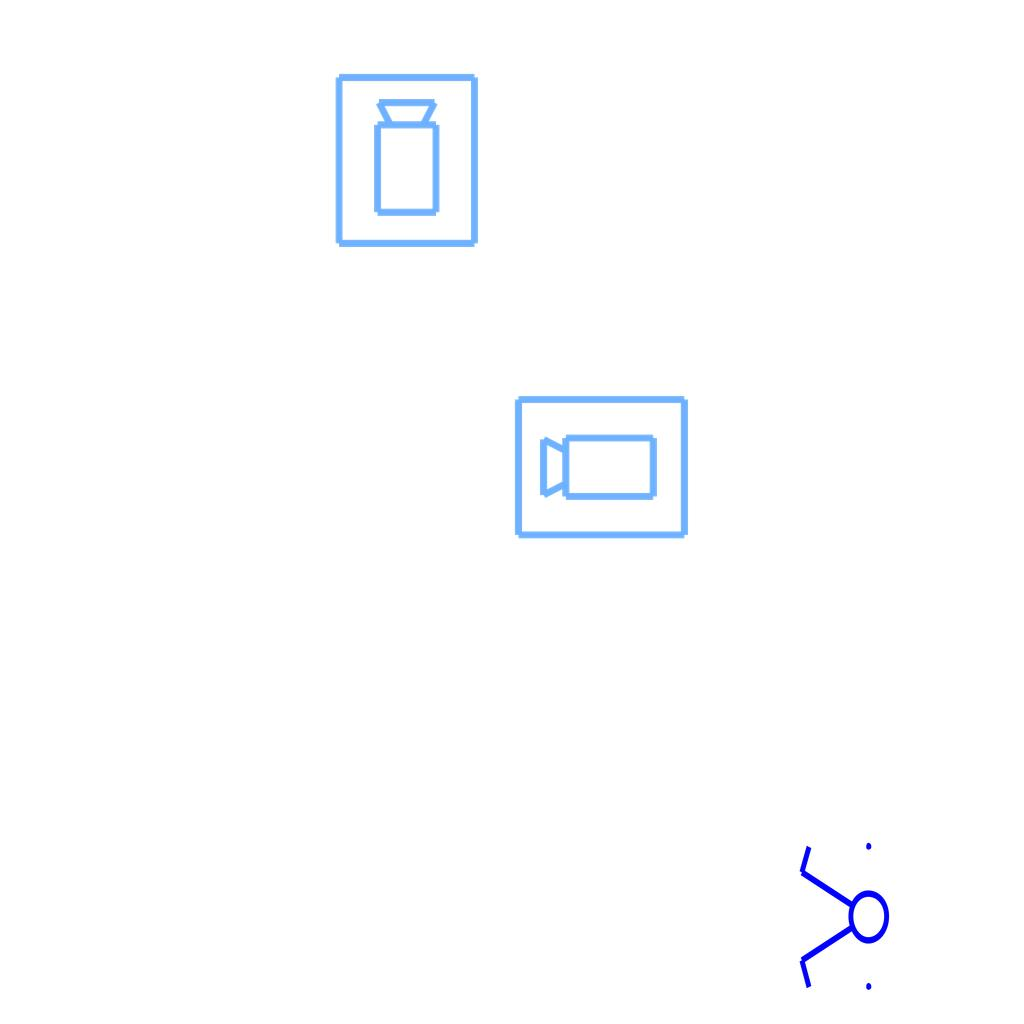KFO_Kamera_mit_Festobjektiv: (331, 70, 485, 252), (511, 389, 693, 543)
Serienschalter: (795, 834, 891, 1002)
